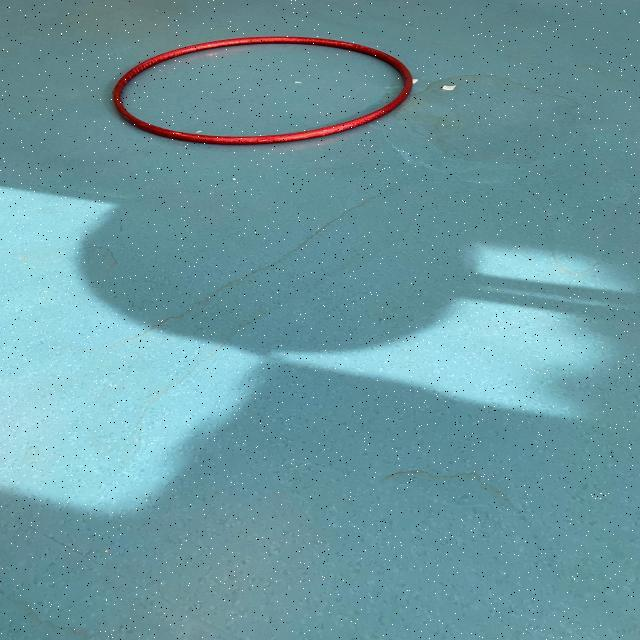Circle: (104, 28, 424, 150)
